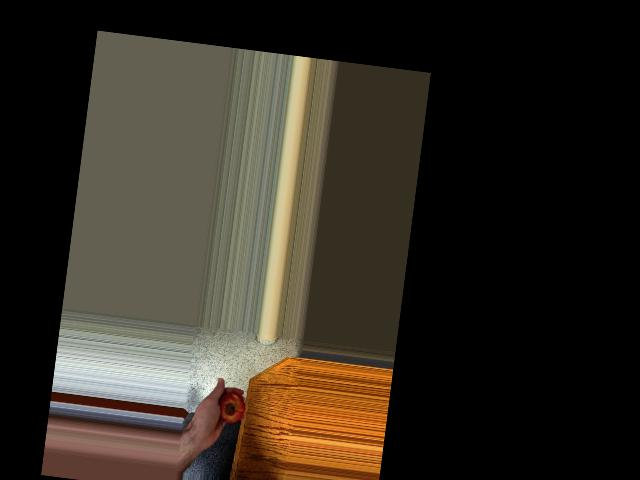apple: (213, 389, 247, 428)
